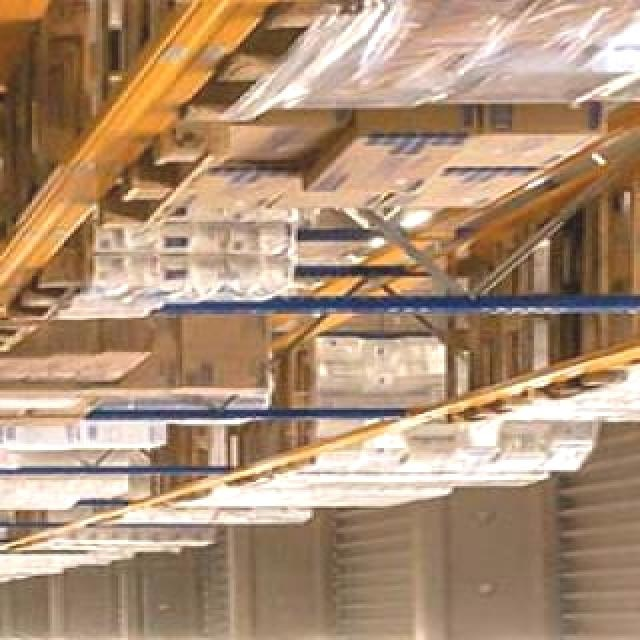fluorescent tube: (472, 636, 578, 640), (176, 632, 220, 640), (292, 636, 358, 640), (104, 634, 134, 640), (4, 632, 26, 640), (136, 636, 178, 640), (372, 638, 444, 640), (74, 636, 102, 640), (24, 636, 50, 640), (228, 638, 278, 640), (48, 638, 72, 640), (0, 634, 2, 640)
